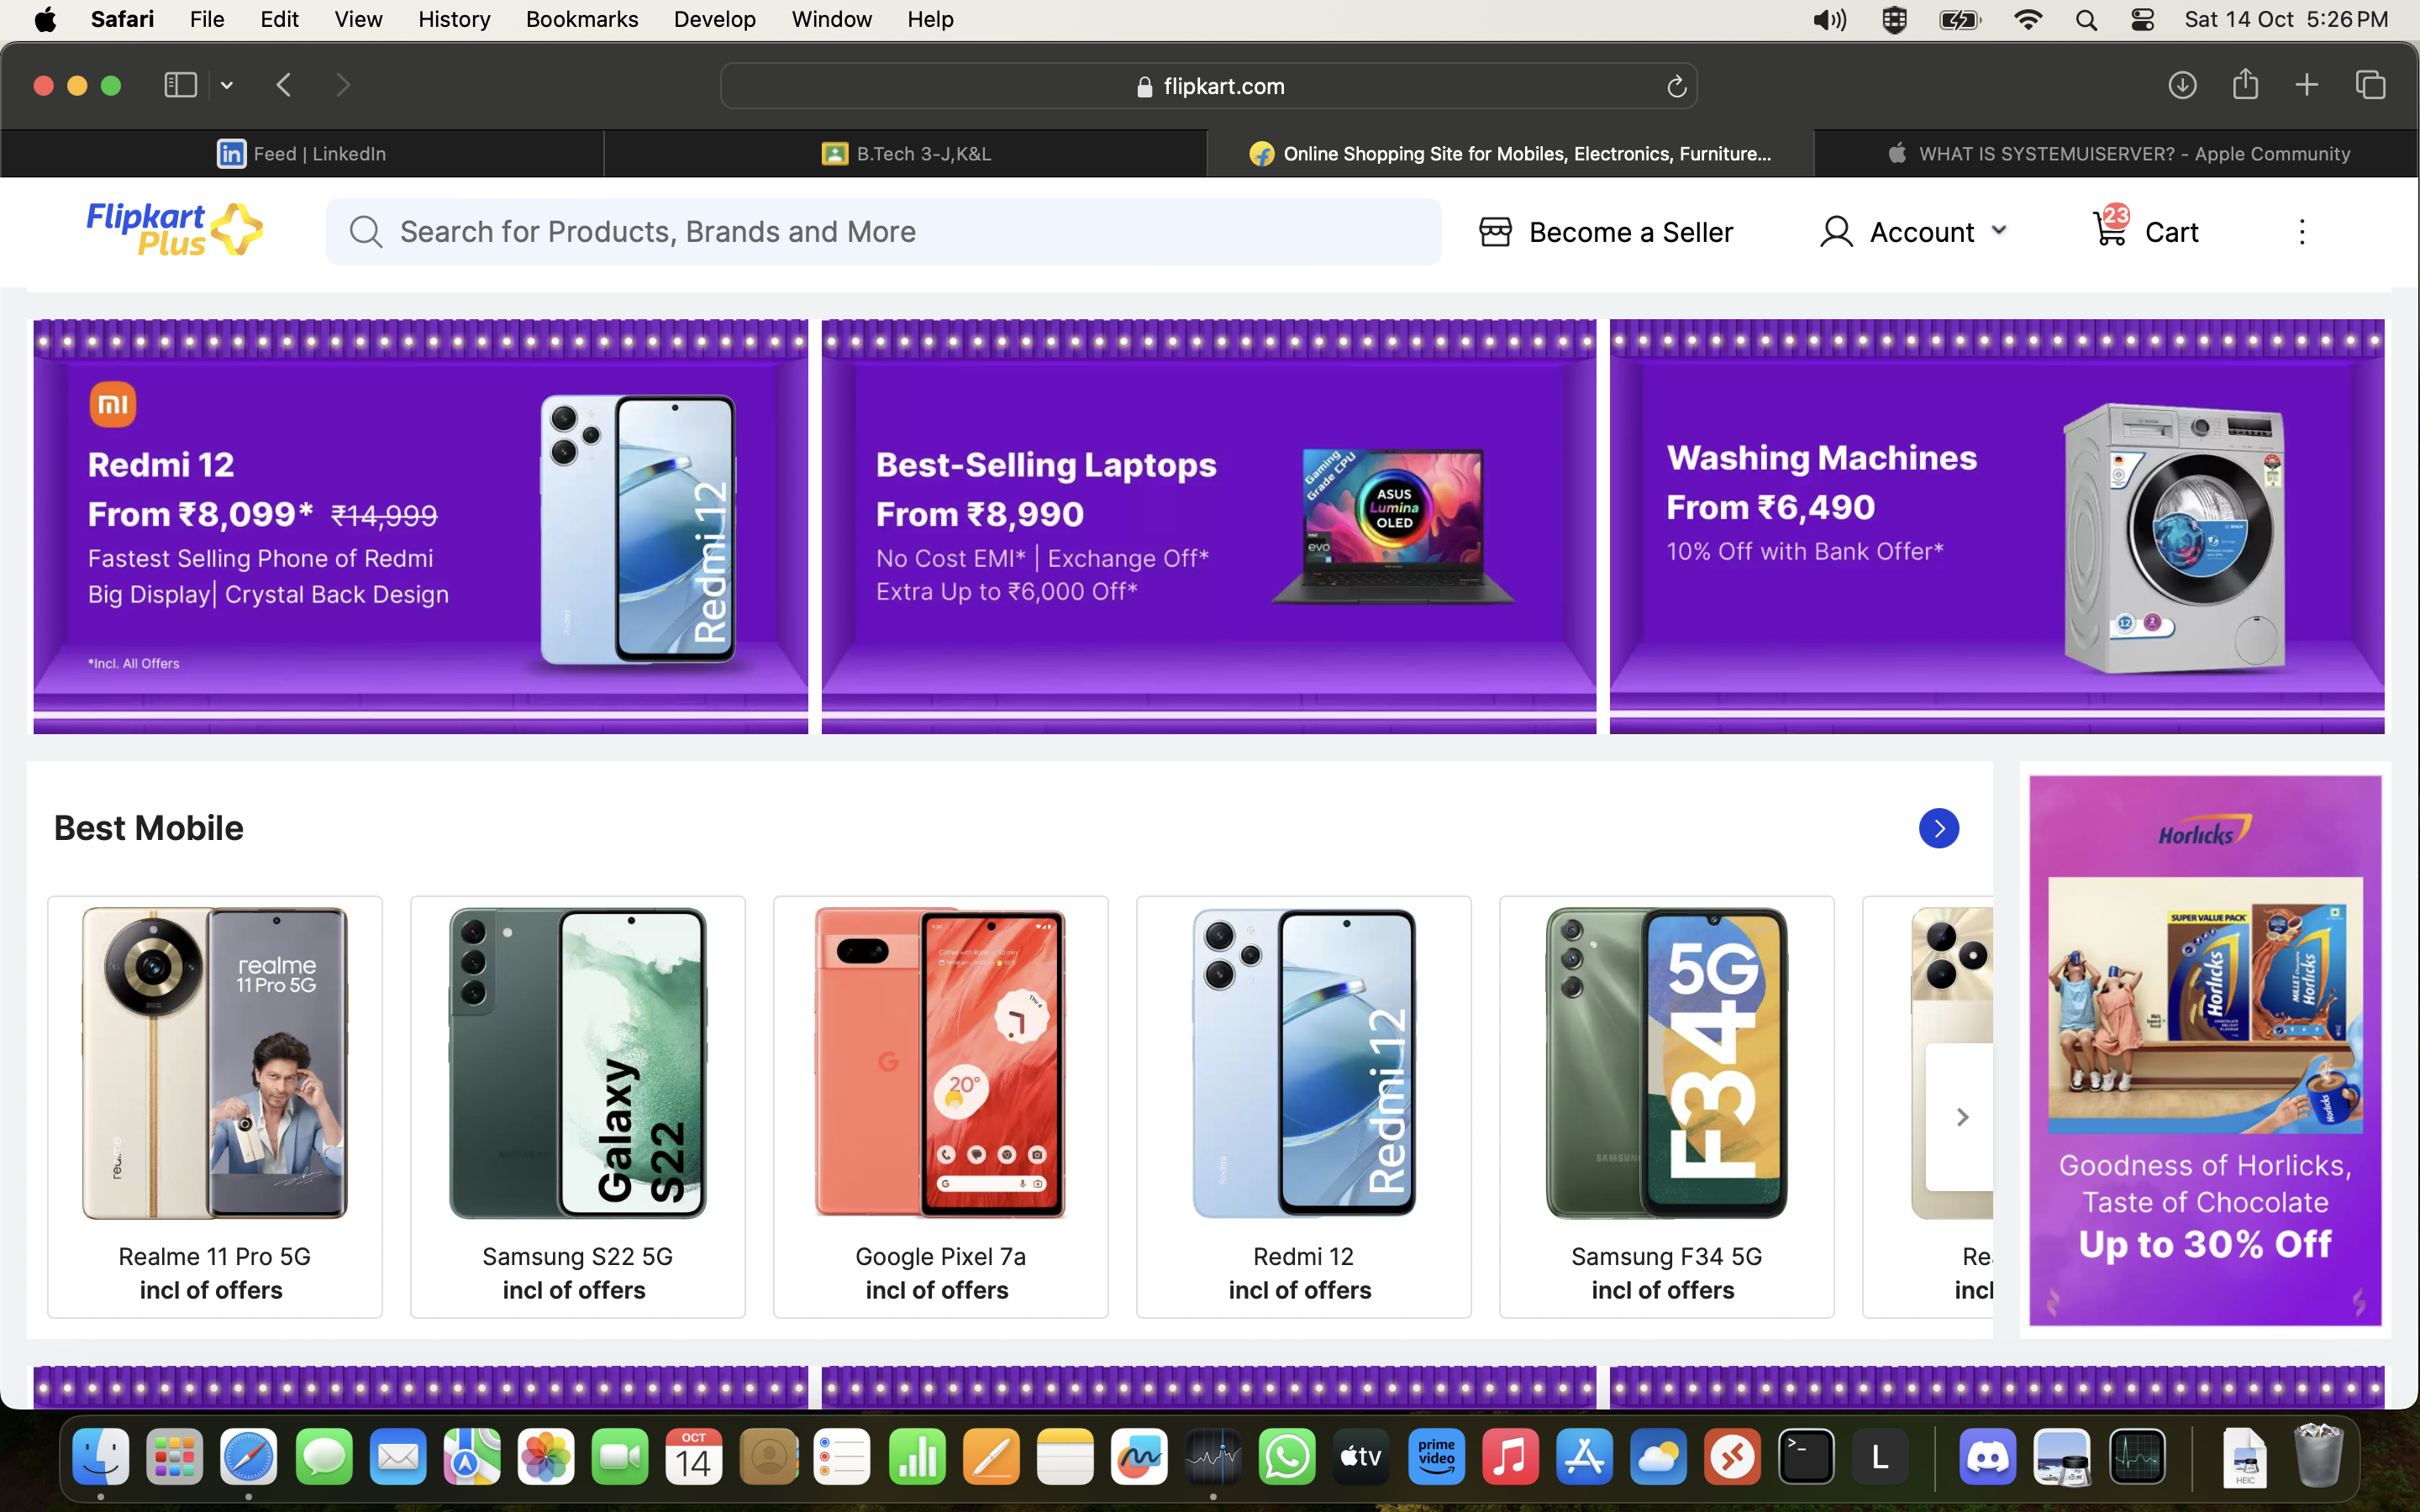Image: (80, 902, 347, 1221), (439, 902, 706, 1221), (2047, 881, 2369, 1129), (815, 906, 1059, 1202), (1554, 906, 1788, 1209), (1192, 906, 1415, 1218), (2051, 402, 2296, 669), (533, 387, 739, 672), (1268, 446, 1518, 618)
Paragraph: (1645, 446, 1993, 530), (84, 545, 463, 603), (866, 549, 1232, 606), (2044, 1151, 2350, 1218), (80, 186, 267, 270), (836, 1232, 1035, 1308), (1561, 1239, 1781, 1305), (1524, 204, 1754, 267), (103, 1245, 329, 1308), (44, 793, 246, 862), (476, 1239, 679, 1305), (87, 496, 446, 533), (1861, 197, 2000, 277), (873, 489, 1108, 537), (2073, 1225, 2340, 1265), (873, 453, 1232, 483), (1232, 1245, 1401, 1305), (1648, 540, 1960, 566), (84, 446, 246, 486), (2134, 209, 2216, 260)
